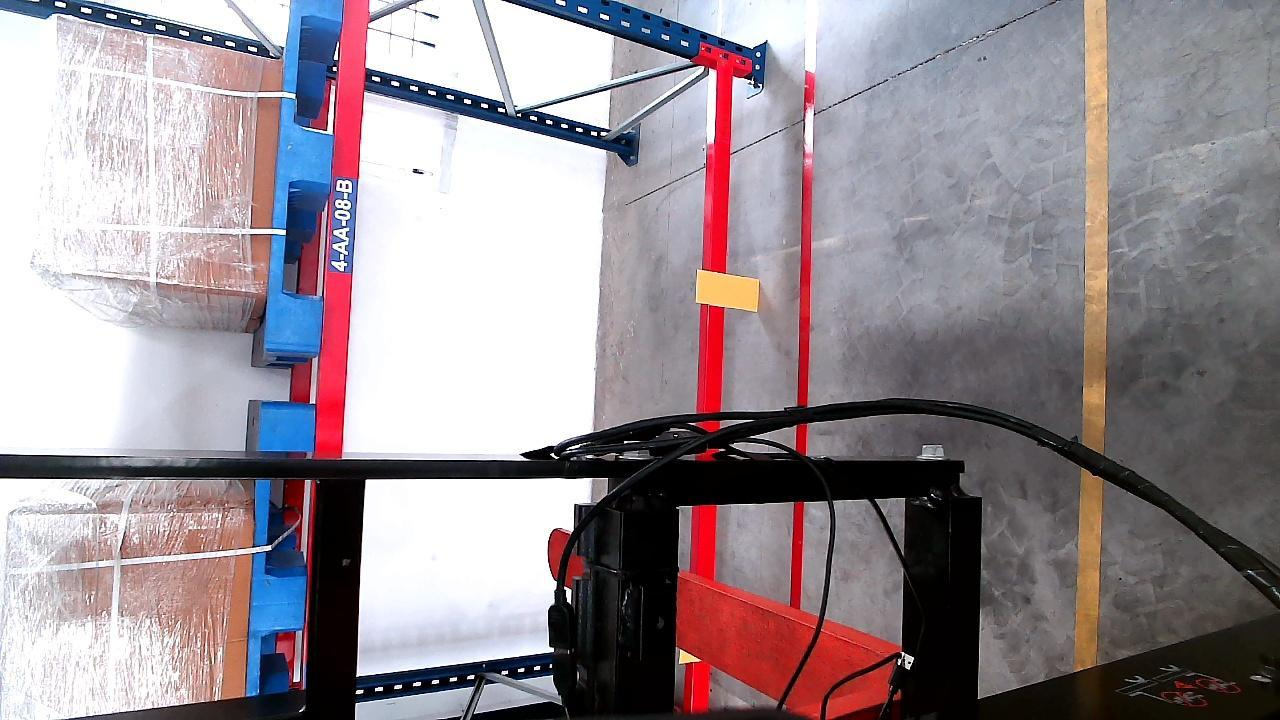red_line: (788, 1, 817, 611)
yellow_line: (1078, 0, 1109, 671)
